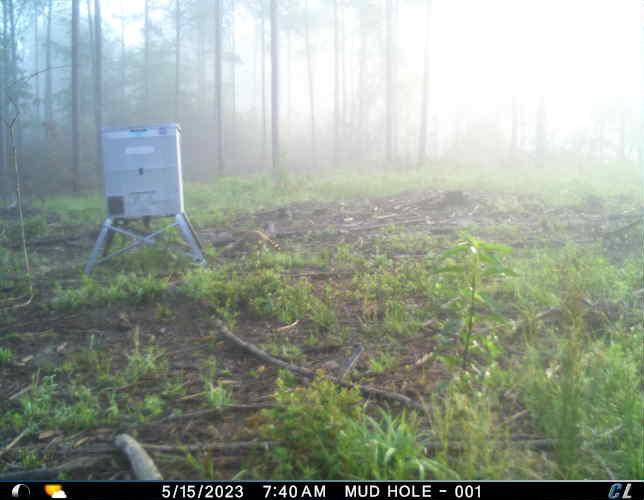Raccoon: (228, 227, 284, 256)
